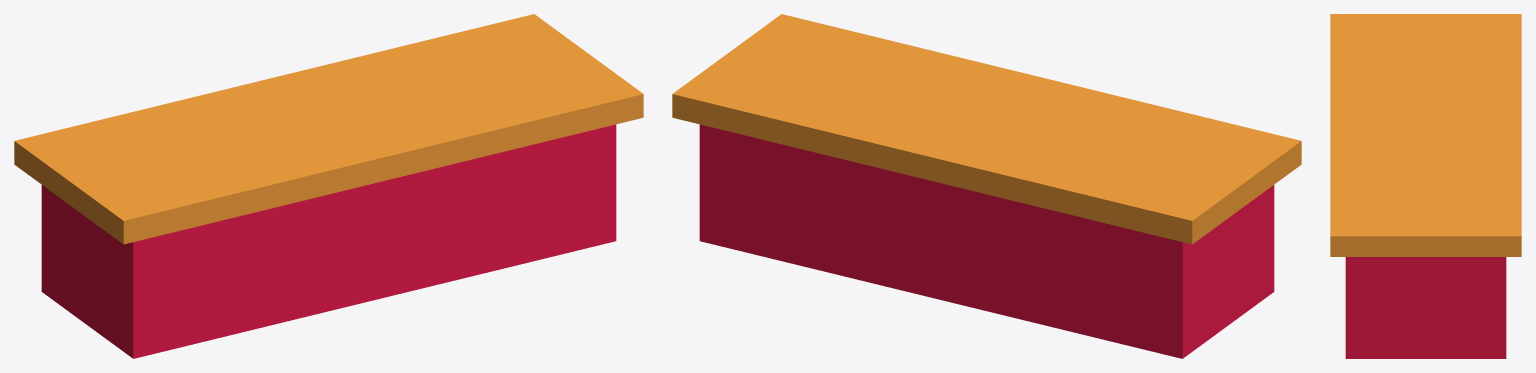
The model's file is PackingTable.fbx.
The picture shows the model from 3 angles, left to right: view 1: azimuth 30°, elevation 25°; view 2: azimuth 150°, elevation 25°; view 3: azimuth 270°, elevation 25°; orthographic projection. The views are drawn at different scales.
Parts seen in each view (by area): view 1: PackingTable; view 2: PackingTable; view 3: PackingTable.
Part boxes in pixels (<box>): PackingTable: <box>14,14,643,358</box>; PackingTable: <box>672,14,1301,358</box>; PackingTable: <box>1330,14,1521,358</box>.
Size of the model in its own units: 143 by 39.14 by 52.04.
